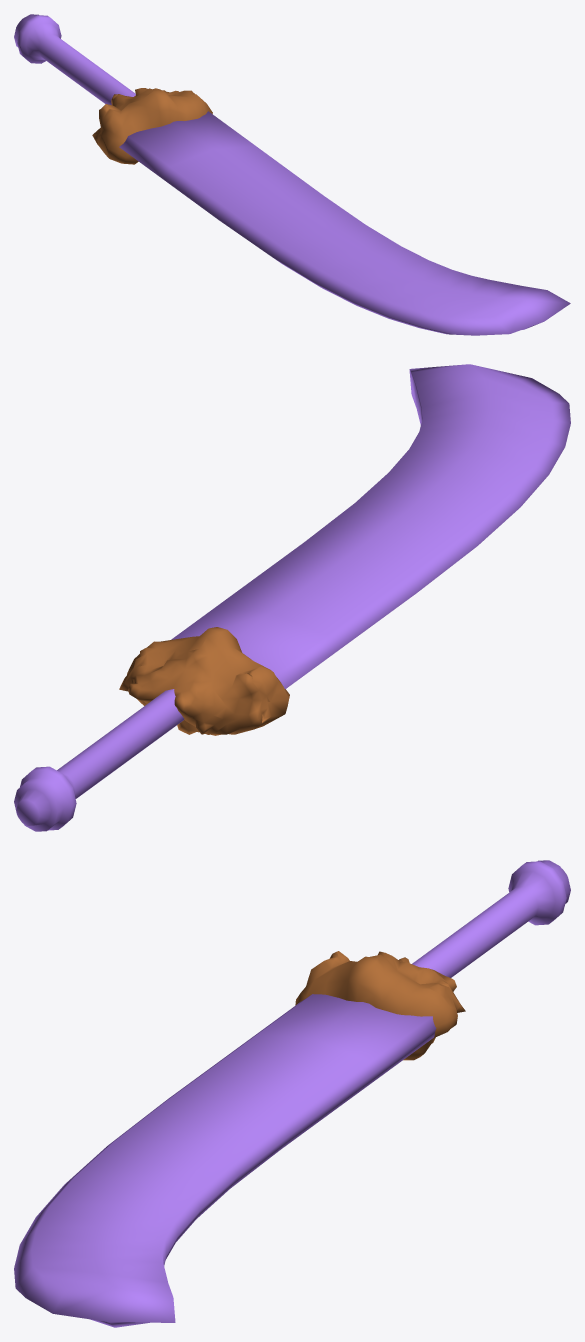
Rendered from SM_GiantSword.fbx.
3 views of the same model, one above another, from view 1: azimuth 30°, elevation 25°; view 2: azimuth 150°, elevation 25°; view 3: azimuth 330°, elevation 25° (orthographic). The views are drawn at different scales.
Parts seen in each view (by area): view 1: SM_Swordgiant; view 2: SM_Swordgiant; view 3: SM_Swordgiant.
Part boxes in pixels (x1=…): SM_Swordgiant: x1=14, y1=14, x2=570, y2=335; SM_Swordgiant: x1=14, y1=364, x2=570, y2=831; SM_Swordgiant: x1=14, y1=860, x2=570, y2=1327.
Bounding box in the file's own units: 5.05 × 1.77 × 20.44.
